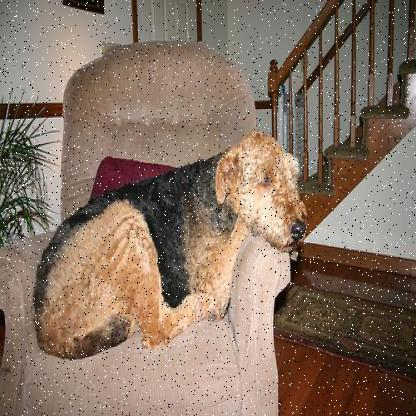dog: (34, 122, 312, 359)
